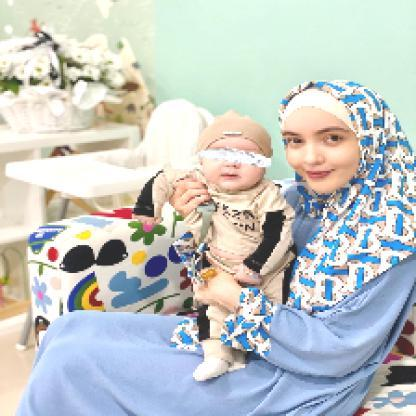child: (131, 110, 300, 383)
